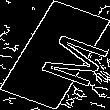M_NW: (13, 24, 97, 86)
